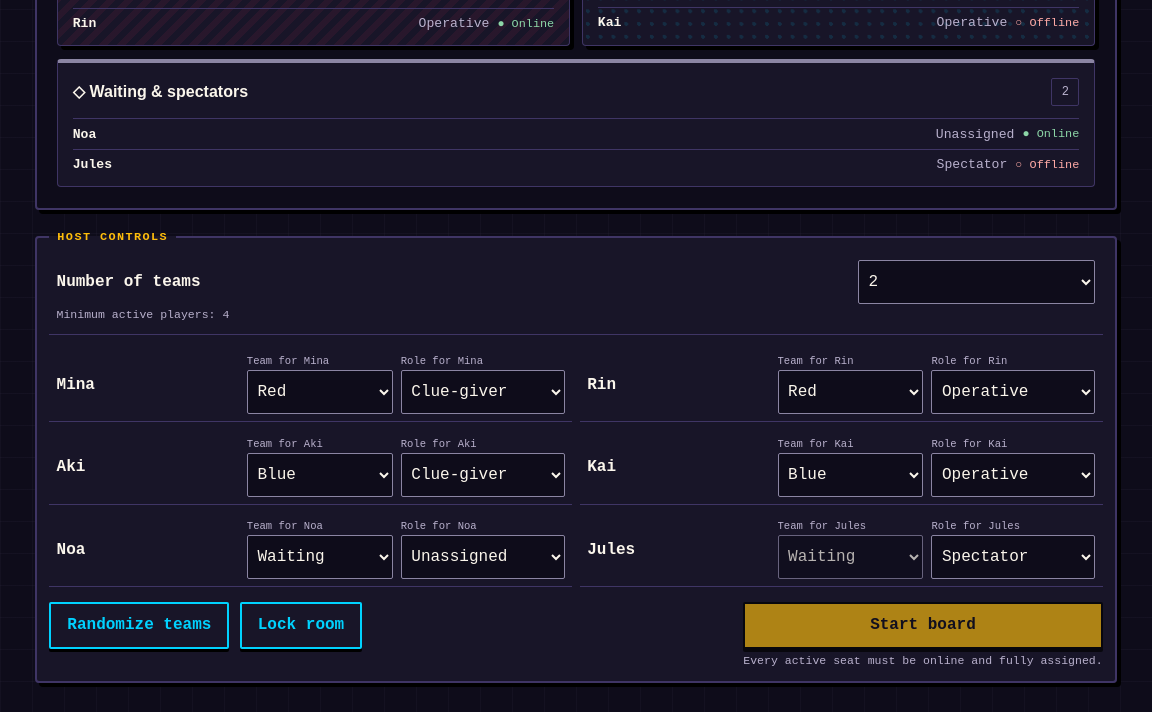
Test: LobbyView authoritative projection › requires in-page confirmation and sends randomize exactly once
(page scrolled)
Click the button "Randomize teams" at {"x": 139, "y": 626}, box [49, 602, 229, 649]
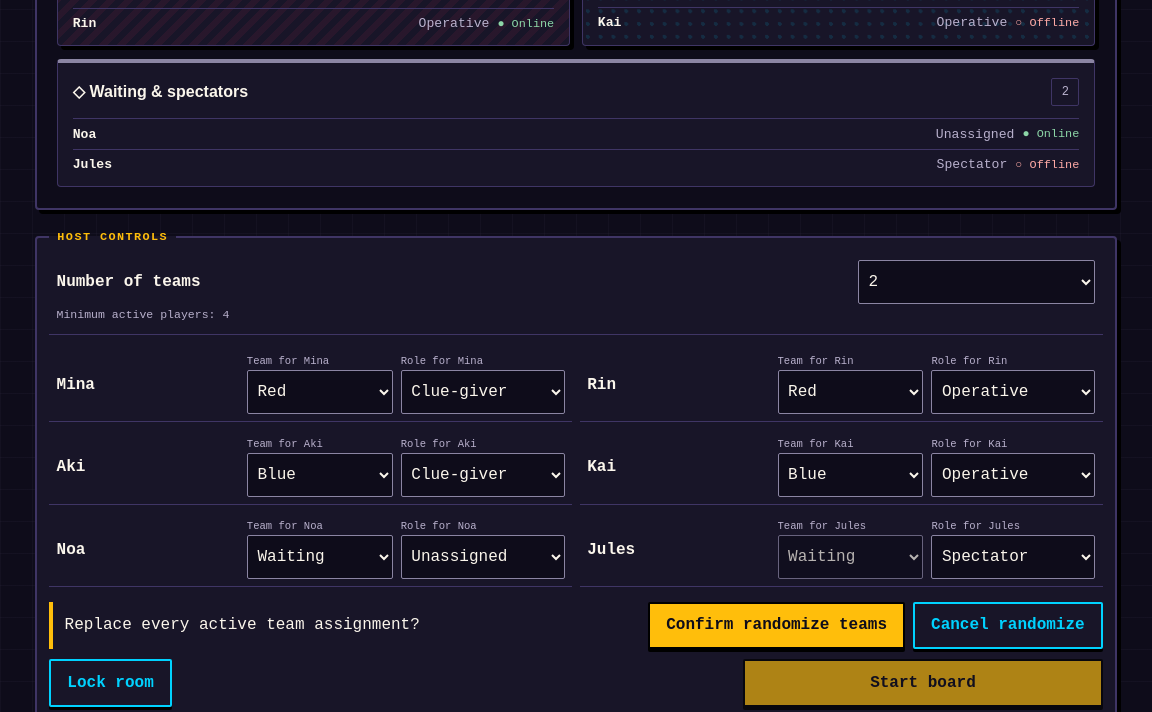
Result: the element named "Confirm random team assignment" is shown at [49, 602, 1103, 649]
Click the button "Confirm randomize teams" at {"x": 777, "y": 626}, box [648, 602, 905, 649]
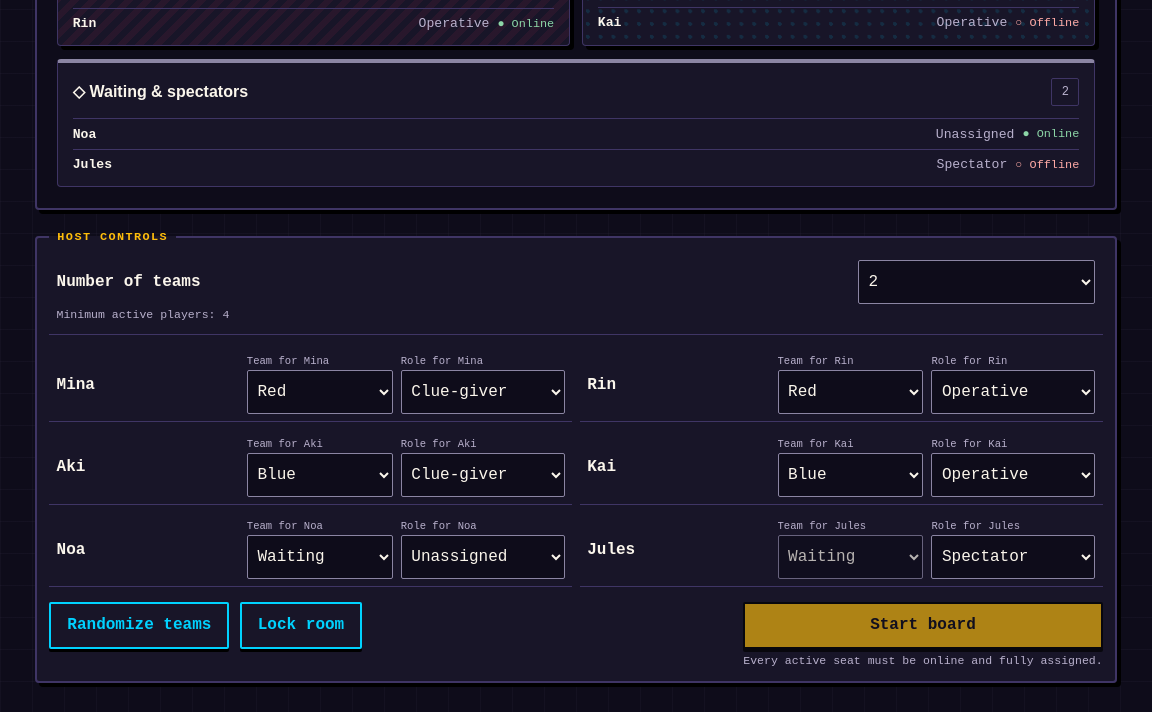
Result: the button "Confirm randomize teams" is gone
